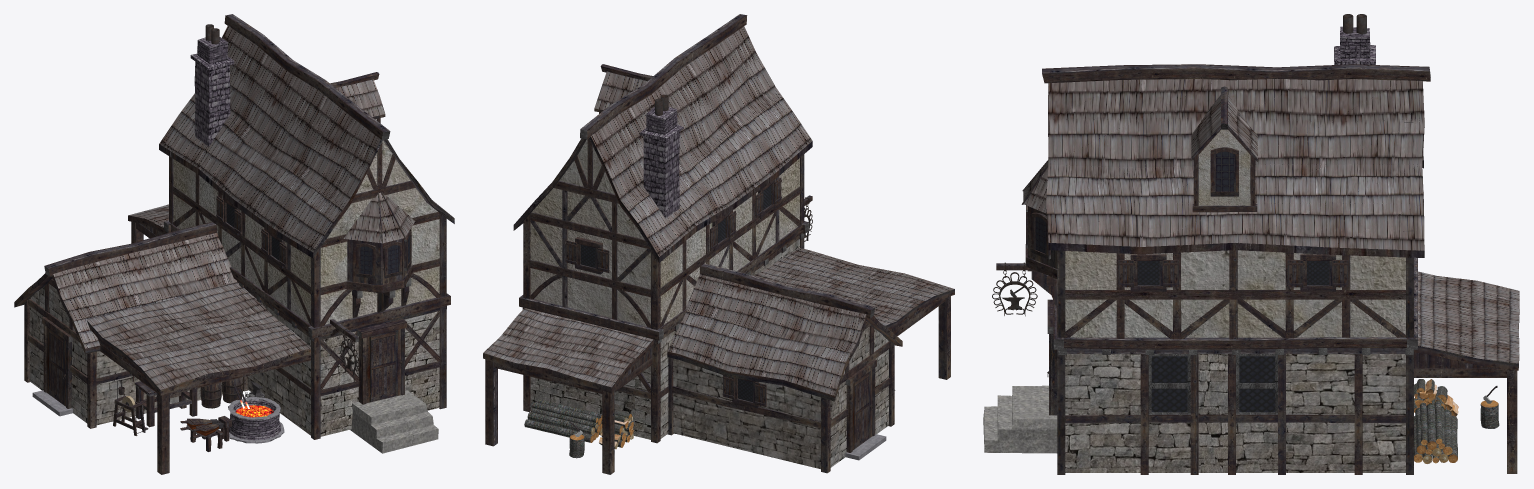
The model's file is building-blacksmith.glb.
3 views of the same model, side by side, from view 1: azimuth 30°, elevation 25°; view 2: azimuth 150°, elevation 25°; view 3: azimuth 270°, elevation 25° (orthographic). The views are drawn at different scales.
Parts seen in each view (by area): view 1: BlacksmithArchitecture; view 2: BlacksmithArchitecture; view 3: BlacksmithArchitecture.
Boxes of the visible parts, box(x1,y1,x2,y2) form: BlacksmithArchitecture: box(14, 14, 454, 474); BlacksmithArchitecture: box(483, 14, 954, 474); BlacksmithArchitecture: box(983, 14, 1519, 474).
Size of the model in its own units: 9.83 by 9.81 by 12.14.
Materials: 22 (22 with a texture image).
